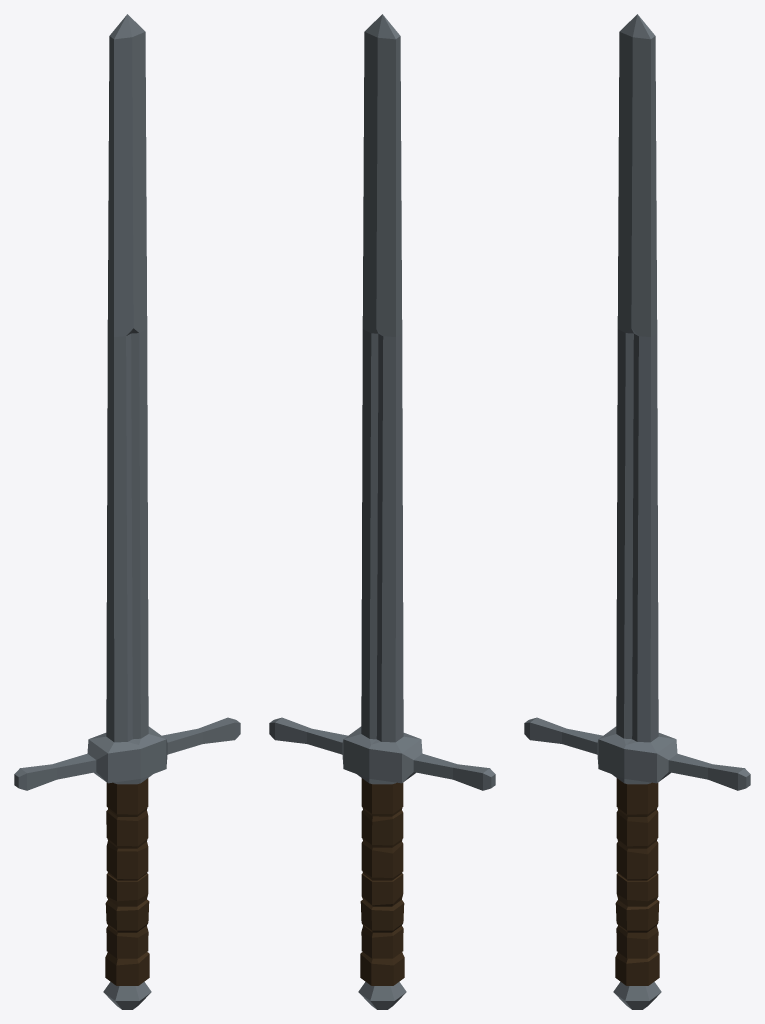
The model's file is TwoHandedSword.glb.
The picture shows the model from 3 angles, left to right: view 1: azimuth 30°, elevation 25°; view 2: azimuth 150°, elevation 25°; view 3: azimuth 330°, elevation 25°; orthographic projection.
Visible parts, largest first — view 1: TwoHandedSword; view 2: TwoHandedSword; view 3: TwoHandedSword.
Boxes of the visible parts, x1,y1,x2,y2 form: TwoHandedSword: [14, 14, 240, 1009]; TwoHandedSword: [269, 14, 495, 1009]; TwoHandedSword: [524, 14, 750, 1009].
Size of the model in its own units: 9377 by 40068 by 1947.
1 material, 1 textured.
